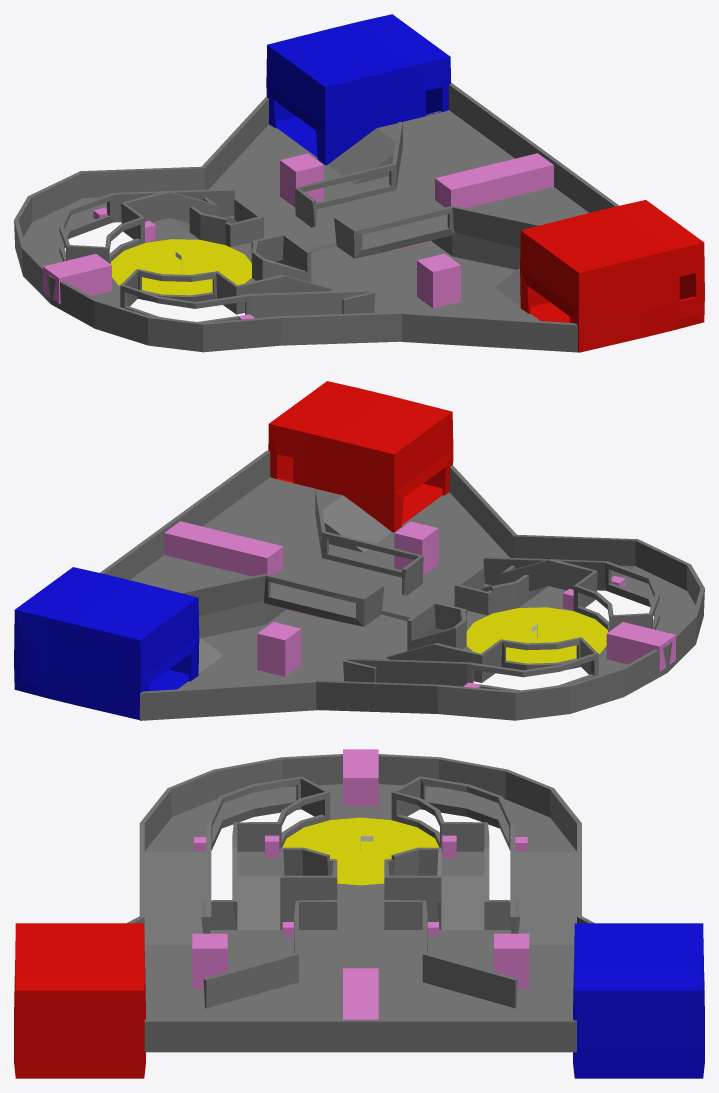
Rendered from emc107.fbx.
3 views of the same model, one above another, from view 1: azimuth 30°, elevation 25°; view 2: azimuth 150°, elevation 25°; view 3: azimuth 270°, elevation 25° (orthographic). The views are drawn at different scales.
Parts seen in each view (by area): view 1: Base.001, Site.001, Base B.001, Base A.001, Obstacle.002, Site.002, Obstacle.003; view 2: Base.001, Site.001, Base A.001, Base B.001, Obstacle.002, Site.002, Obstacle.003; view 3: Base.001, Site.001, Base B.001, Base A.001, Obstacle.002, Site.002, Obstacle.003.
Part boxes in pixels (x1=…): Base.001: x1=202, y1=82, x2=618, y2=352; Site.001: x1=14, y1=166, x2=402, y2=352; Base B.001: x1=520, y1=200, x2=704, y2=352; Base A.001: x1=266, y1=14, x2=450, y2=165; Obstacle.002: x1=43, y1=153, x2=460, y2=319; Site.002: x1=110, y1=239, x2=251, y2=295; Obstacle.003: x1=435, y1=153, x2=553, y2=208; Base.001: x1=100, y1=450, x2=516, y2=720; Site.001: x1=315, y1=534, x2=704, y2=720; Base A.001: x1=14, y1=567, x2=199, y2=720; Base B.001: x1=268, y1=381, x2=453, y2=532; Obstacle.002: x1=257, y1=521, x2=675, y2=687; Site.002: x1=466, y1=607, x2=607, y2=663; Obstacle.003: x1=164, y1=521, x2=283, y2=576; Base.001: x1=127, y1=859, x2=704, y2=1052; Site.001: x1=139, y1=754, x2=581, y2=944; Base B.001: x1=14, y1=923, x2=145, y2=1078; Base A.001: x1=573, y1=923, x2=704, y2=1078; Obstacle.002: x1=192, y1=749, x2=529, y2=988; Site.002: x1=282, y1=817, x2=438, y2=885; Obstacle.003: x1=343, y1=968, x2=378, y2=1019.
Size of the model in its own units: 77.89 by 71.66 by 11.3.
